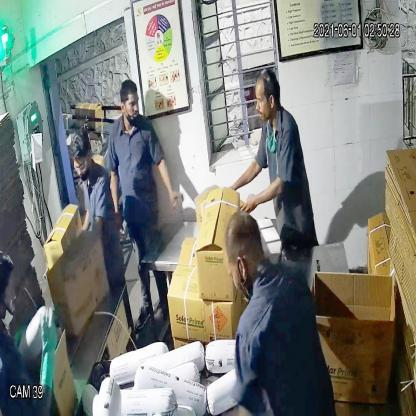goggles: (72, 155, 90, 176)
no_goggles: (251, 89, 275, 113), (120, 92, 143, 115)
